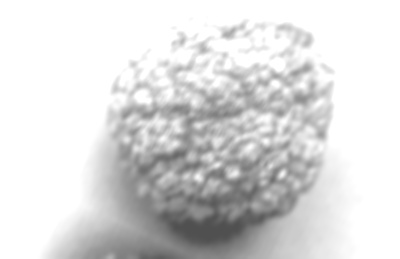halobolite: (61, 0, 387, 259)
